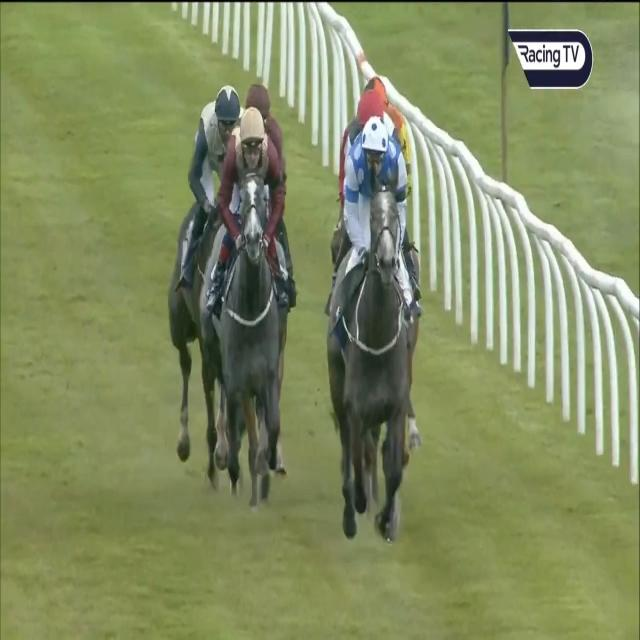horses-racing: (332, 97, 425, 554), (203, 110, 302, 504), (167, 84, 249, 470), (212, 62, 290, 150), (332, 73, 410, 153)
